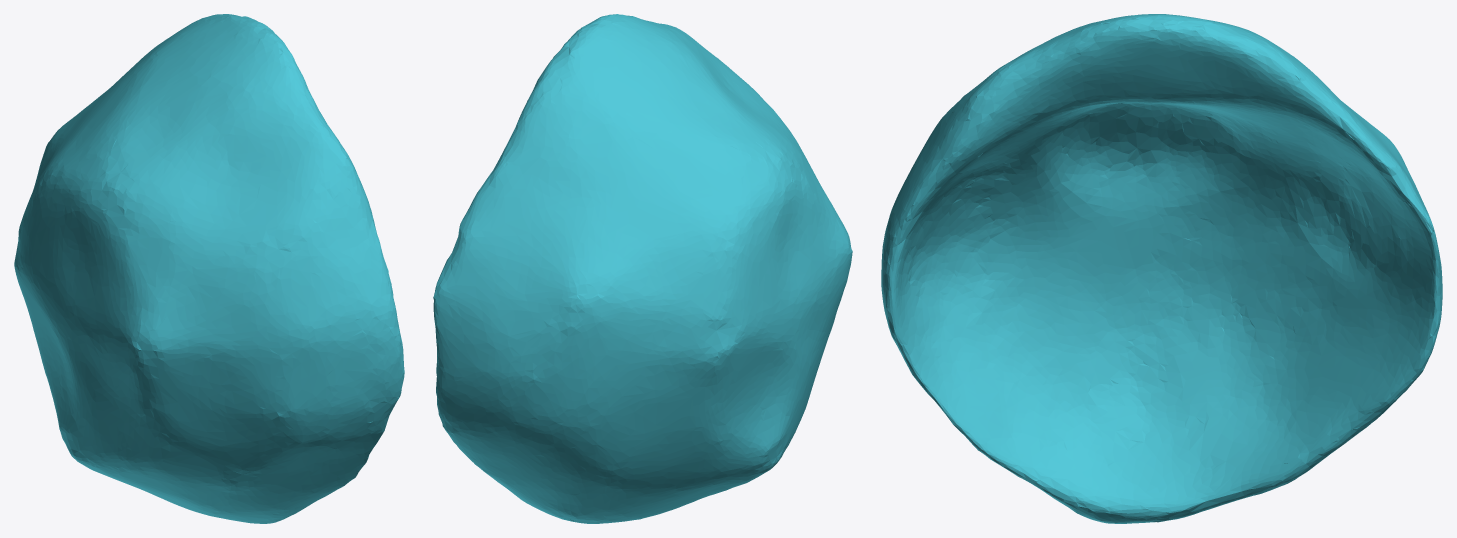
The picture shows the model from 3 angles, left to right: view 1: azimuth 30°, elevation 25°; view 2: azimuth 150°, elevation 25°; view 3: azimuth 270°, elevation 25°; orthographic projection. The views are drawn at different scales.
Visible parts, largest first — view 1: Renderer Node; view 2: Renderer Node; view 3: Renderer Node.
Boxes of the visible parts, left/top/right/bottom form: Renderer Node: left=14, top=14, right=404, bottom=523; Renderer Node: left=433, top=14, right=852, bottom=523; Renderer Node: left=881, top=14, right=1442, bottom=523.
Size of the model in its own units: 0.3376 by 0.6714 by 0.665.
Materials: 1 (1 with a texture image).
